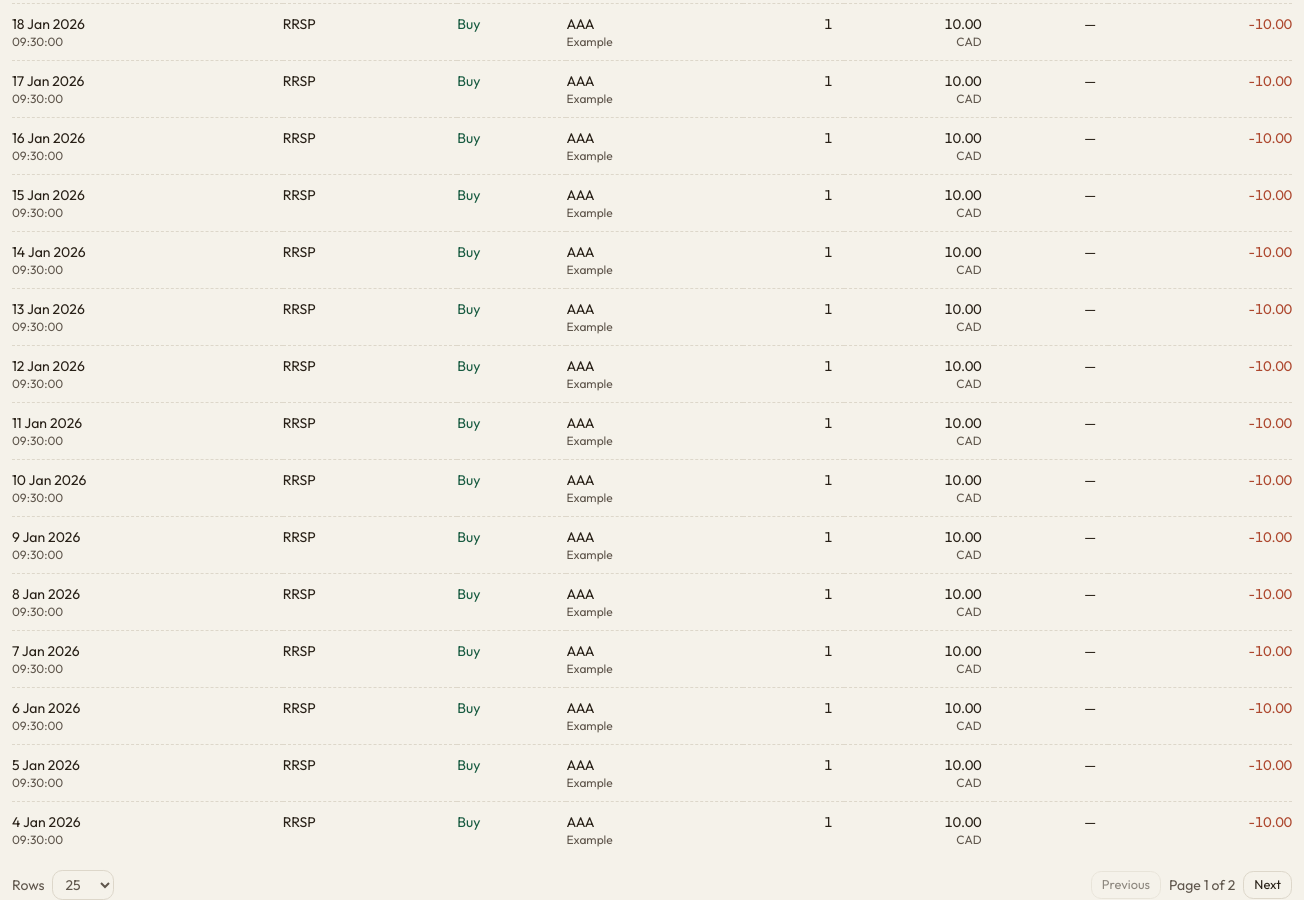
TradeLog › searches, pages, and exports the matches
Later steps or results of the test are not shown.
(page scrolled)
Click the button "Next".
click(1268, 885)  # box 1243,871 -> 1292,899
(page scrolled)
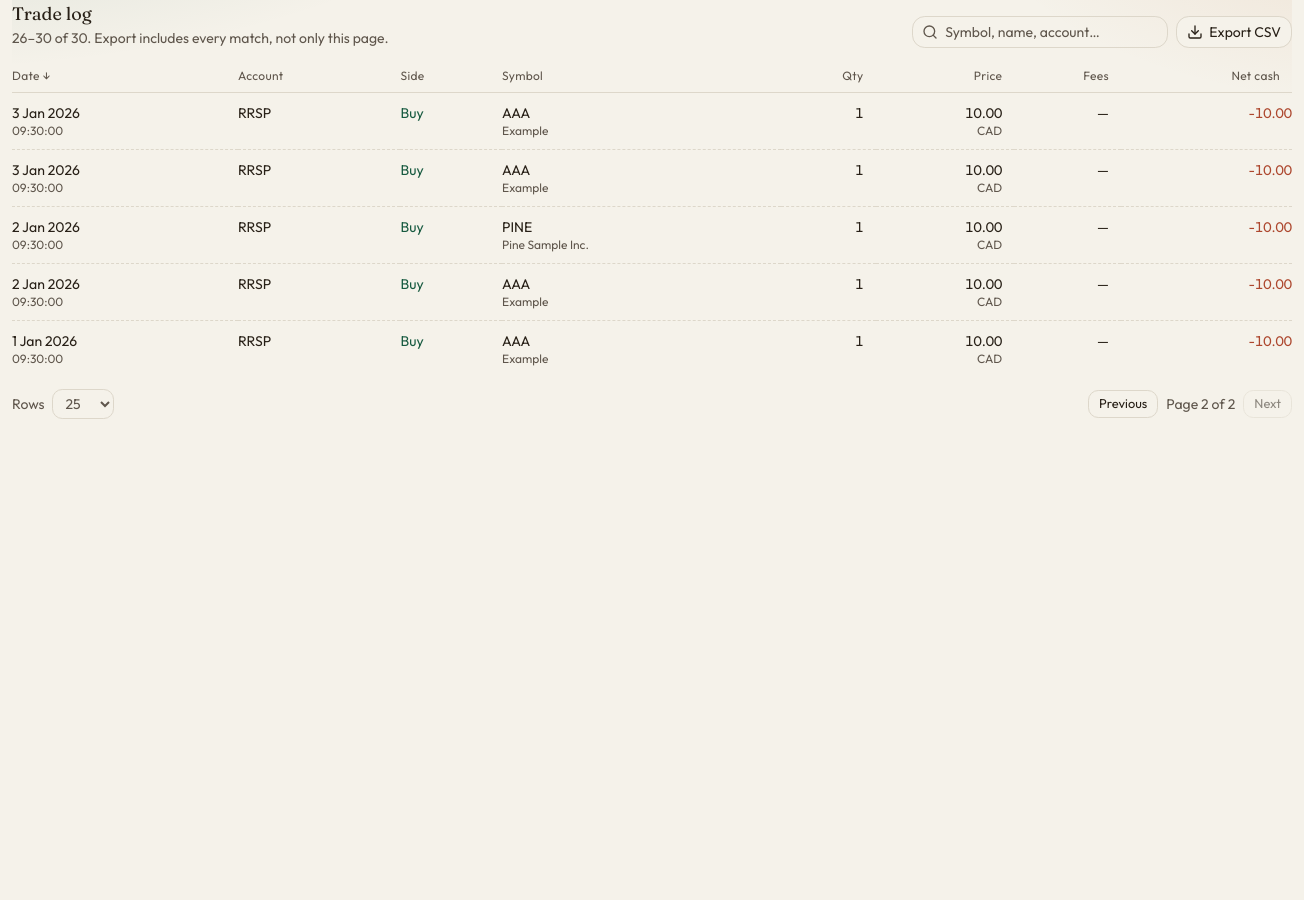
Expected: the text "26–30 of 30" is shown, 12,29 -> 87,47
Type "pine" into the field named "Search the trade log".
click(1040, 32); type("pine")  # box 912,16 -> 1168,48
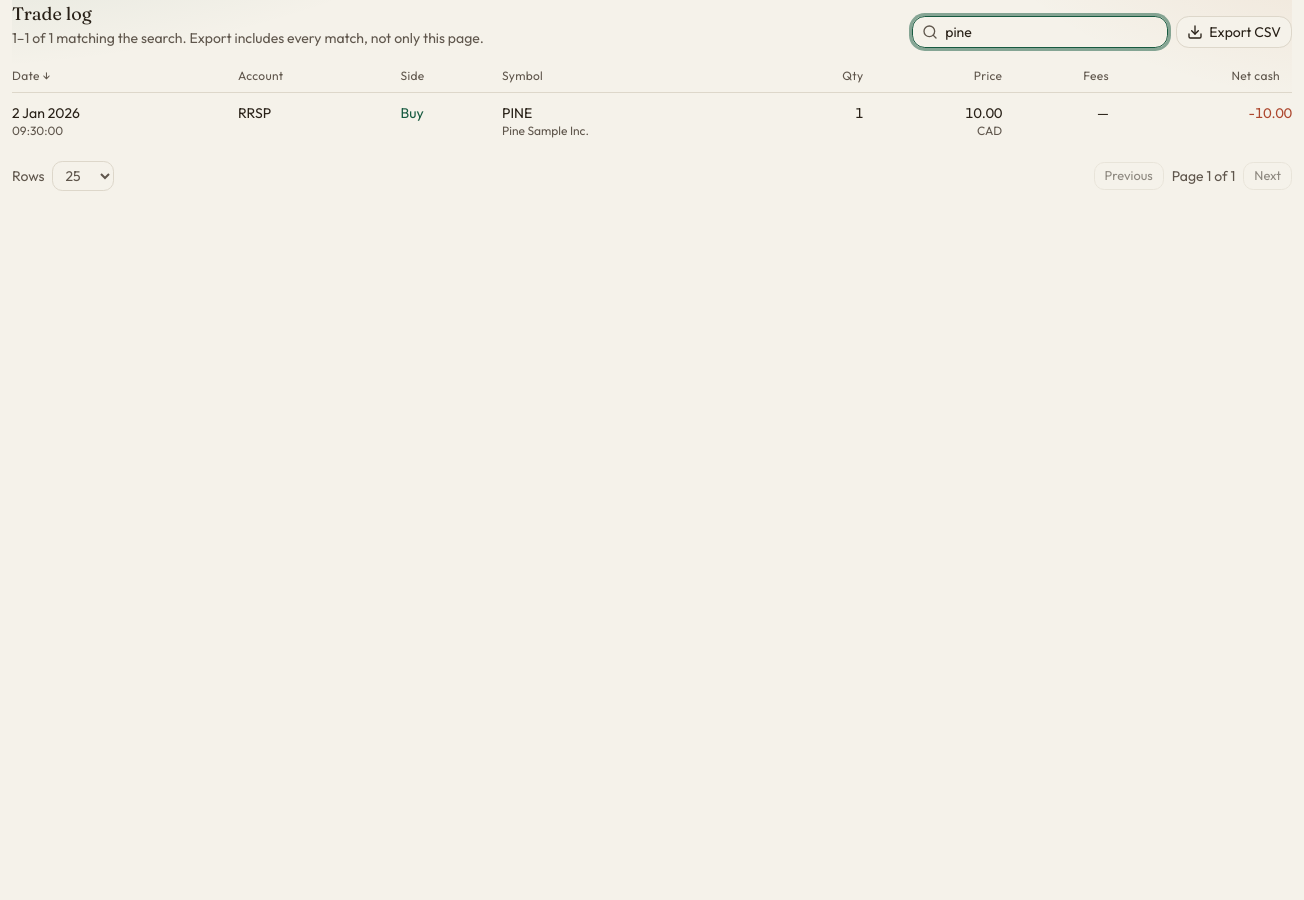
Expected: the text "PINE" is shown, 502,104 -> 532,122
Expected: the text "1–1 of 1" is shown, 12,29 -> 53,47
